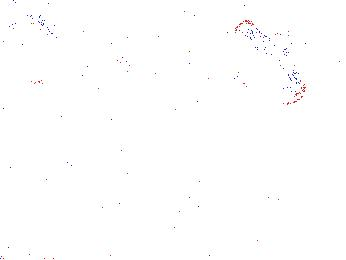moon jellyfish: (88, 1, 177, 83), (136, 10, 238, 79), (232, 19, 306, 105), (4, 15, 58, 84)
